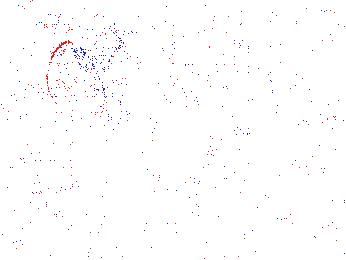moon jellyfish: (265, 35, 346, 123), (204, 37, 268, 135), (45, 42, 108, 121), (107, 43, 177, 114), (110, 102, 182, 167), (1, 57, 52, 109)
